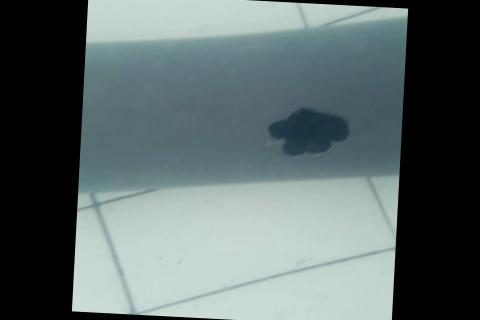kebocoran: (264, 102, 355, 160)
